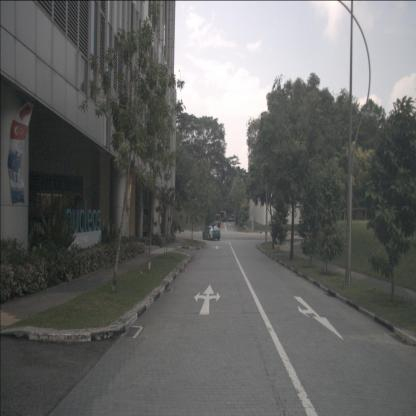vehicle-car: (202, 225, 221, 241)
vehicle-truck: (214, 213, 221, 228), (219, 212, 226, 223), (228, 214, 235, 222)
